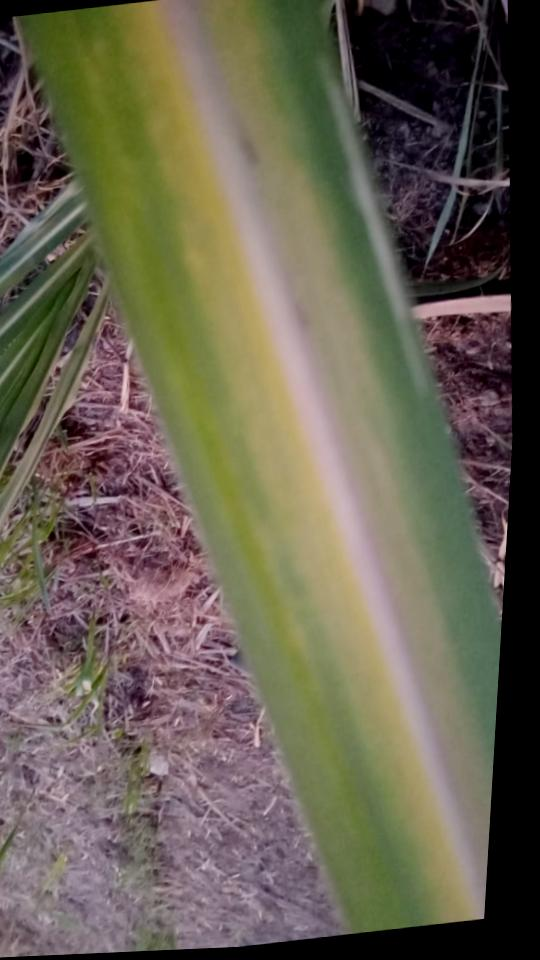Yellow: (107, 3, 479, 922), (200, 0, 493, 796), (62, 10, 326, 694)
